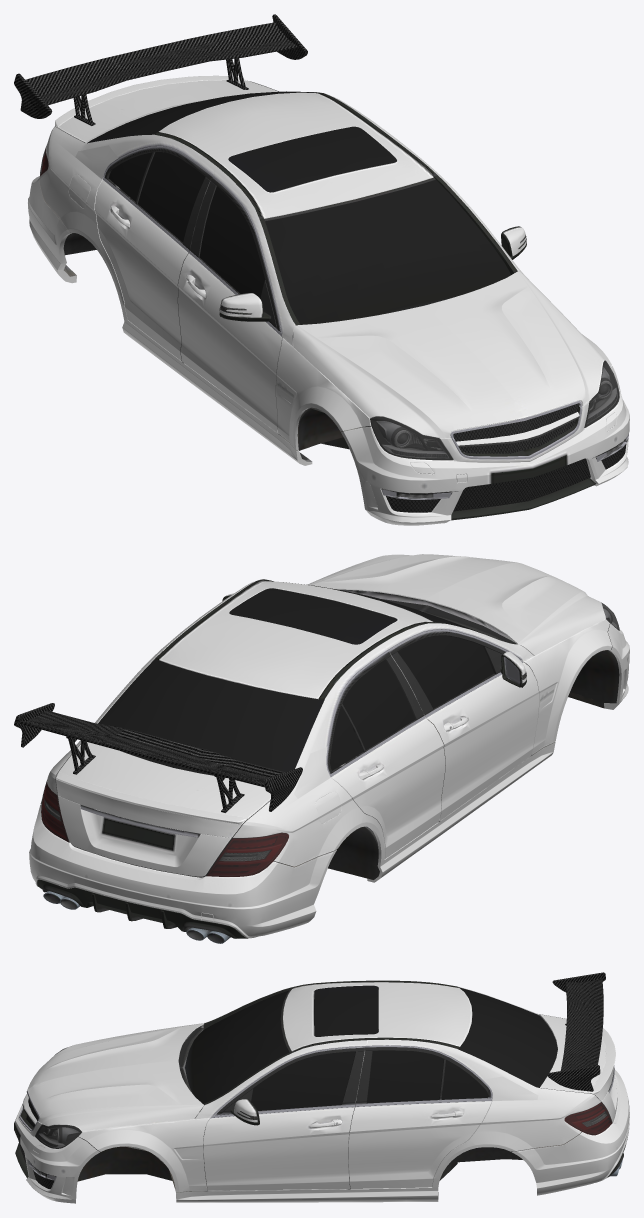
File: mars car.fbx
The picture shows the model from 3 angles, top to bottom: view 1: azimuth 30°, elevation 25°; view 2: azimuth 150°, elevation 25°; view 3: azimuth 270°, elevation 25°; orthographic projection. The views are drawn at different scales.
Parts seen in each view (by area): view 1: mars_car, glass_14; view 2: mars_car, glass_14; view 3: mars_car, glass_14.
Boxes of the visible parts, x1,y1,x2,y2 form: mars_car: (14, 14, 629, 525); glass_14: (40, 146, 619, 460); mars_car: (14, 554, 629, 943); glass_14: (41, 602, 619, 876); mars_car: (14, 972, 629, 1203); glass_14: (35, 1047, 612, 1148).
Bounding box in the file's own units: 476 × 300 × 1108.
Materials: 2 (1 with a texture image).
